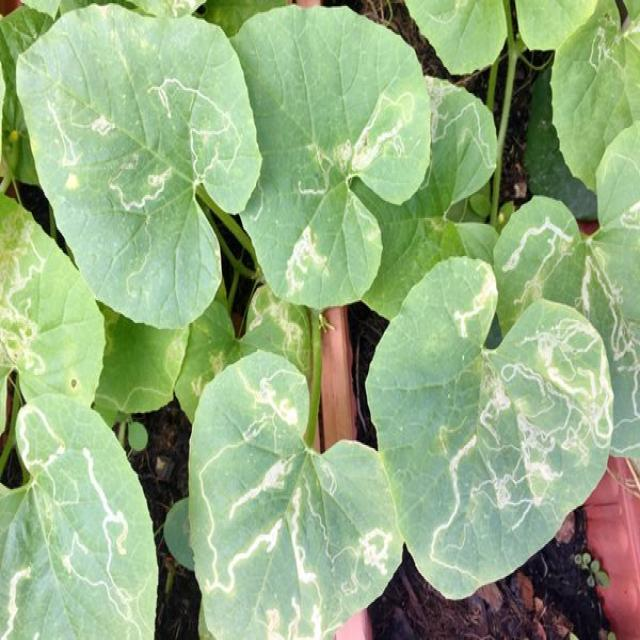Serpentine leafminer: (185, 349, 403, 640), (421, 310, 615, 589), (13, 391, 159, 637), (574, 235, 640, 461), (296, 88, 416, 210), (0, 200, 69, 398), (98, 151, 179, 308), (141, 69, 246, 190), (34, 76, 124, 171), (422, 69, 498, 173), (500, 210, 574, 315), (280, 215, 335, 303), (250, 298, 312, 354), (586, 17, 640, 79), (450, 274, 500, 336), (1, 557, 31, 638), (600, 191, 640, 247), (426, 0, 477, 42)
